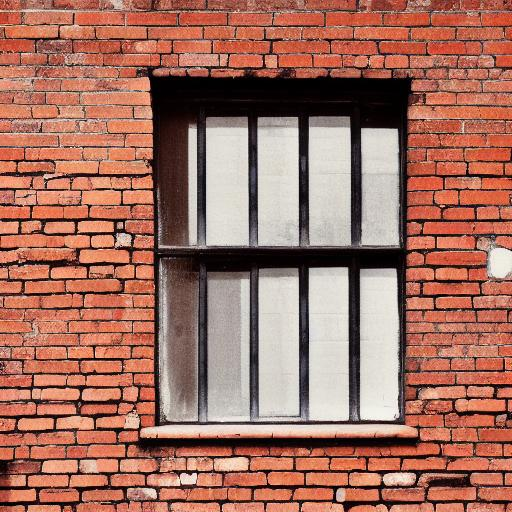Window: (136, 72, 421, 441)
